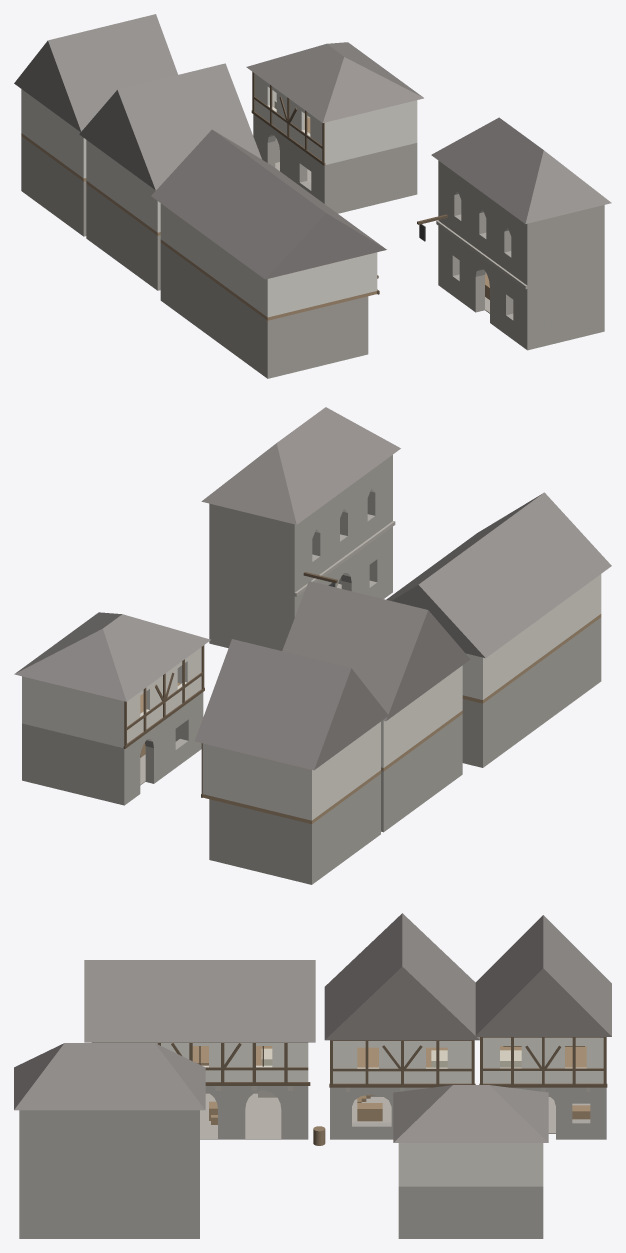
The model's file is terrace-1275.glb.
The picture shows the model from 3 angles, top to bottom: view 1: azimuth 30°, elevation 25°; view 2: azimuth 150°, elevation 25°; view 3: azimuth 270°, elevation 25°; orthographic projection. The views are drawn at different scales.
Parts seen in each view (by area): view 1: barrel; view 2: barrel; view 3: barrel.
Part boxes in pixels (bbox=[...]): barrel: bbox=[14, 14, 611, 378]; barrel: bbox=[14, 407, 611, 884]; barrel: bbox=[14, 913, 611, 1238].
Size of the model in its own units: 20.2 by 10.9 by 33.1.
